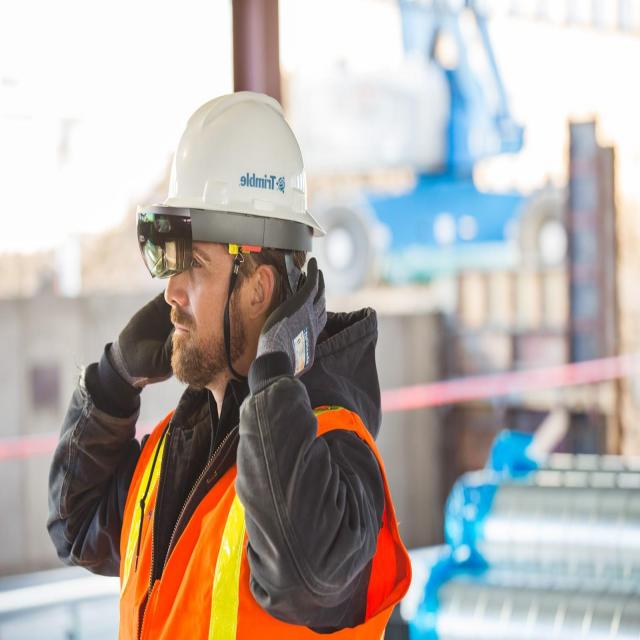Reflective-Jacket: (114, 315, 410, 635)
Safety-Helmet: (133, 84, 326, 274)
